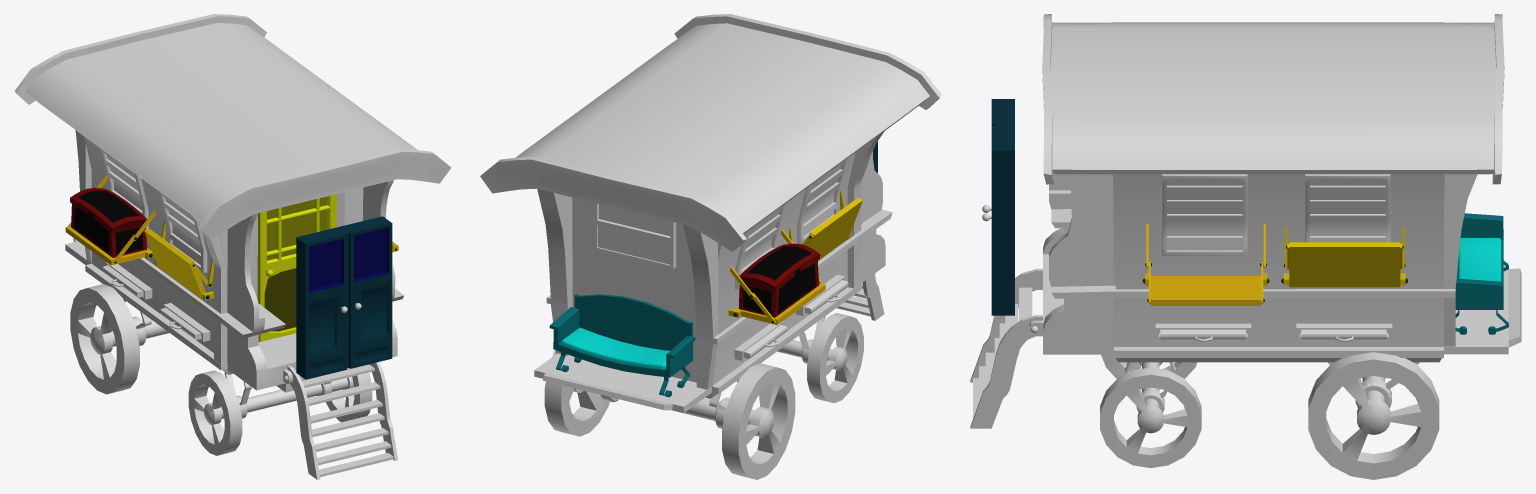
Rendered from Mod_M_HeroWagon.fbx.
3 views of the same model, side by side, from view 1: azimuth 30°, elevation 25°; view 2: azimuth 150°, elevation 25°; view 3: azimuth 270°, elevation 25° (orthographic). The views are drawn at different scales.
Parts seen in each view (by area): view 1: roof001, door_B001, back part001, body001, large wagon wheels001, stairs001, small wagon wheels001, door_A001, chest_LOW001, wagon sideboard_closed004, wagon window_B008, side beams005 (+5 smaller); view 2: roof001, body001, large wagon wheels001, seat001, front part001, small wagon wheels001, chest_LOW001, wagon window_A001, back part001, wagon window_B008, side beams005, wagon sideboard_closed004 (+5 smaller); view 3: roof001, body001, back part001, large wagon wheels001, small wagon wheels001, wagon window_B007, wagon window_B006, wagon sideboard_closed003, door_B001, stairs001, seat001, front part001 (+5 smaller).
Boxes of the visible parts, box(x1,y1,x2,y2) form: roof001: box(15, 14, 451, 238); door_B001: box(296, 216, 392, 379); back part001: box(149, 180, 404, 392); body001: box(65, 136, 363, 374); large wagon wheels001: box(70, 284, 169, 394); stairs001: box(287, 362, 397, 479); small wagon wheels001: box(188, 370, 372, 455); door_A001: box(257, 194, 336, 341); chest_LOW001: box(70, 188, 147, 257); wagon sideboard_closed004: box(144, 220, 213, 300); wagon window_B008: box(160, 192, 207, 272); side beams005: box(192, 215, 226, 364); roof001: box(480, 14, 941, 251); body001: box(534, 152, 861, 412); large wagon wheels001: box(544, 350, 795, 479); seat001: box(549, 294, 695, 397); front part001: box(537, 189, 751, 389); small wagon wheels001: box(777, 313, 863, 403); chest_LOW001: box(738, 243, 820, 317); wagon window_A001: box(594, 203, 676, 268); back part001: box(818, 151, 892, 282); wagon window_B008: box(797, 159, 846, 243); side beams005: box(847, 131, 884, 288); wagon sideboard_closed004: box(789, 189, 862, 260); roof001: box(1042, 14, 1504, 184); body001: box(1113, 174, 1521, 362); back part001: box(1043, 174, 1279, 354); large wagon wheels001: box(1308, 352, 1439, 479); small wagon wheels001: box(1100, 354, 1201, 468); wagon window_B007: box(1162, 174, 1247, 255); wagon window_B006: box(1305, 174, 1390, 242); wagon sideboard_closed003: box(1281, 226, 1407, 287); door_B001: box(982, 99, 1014, 315); stairs001: box(970, 268, 1042, 428); seat001: box(1455, 213, 1508, 334); front part001: box(1279, 174, 1477, 346).
Bounding box in the file's own units: 107 × 121 × 167.
